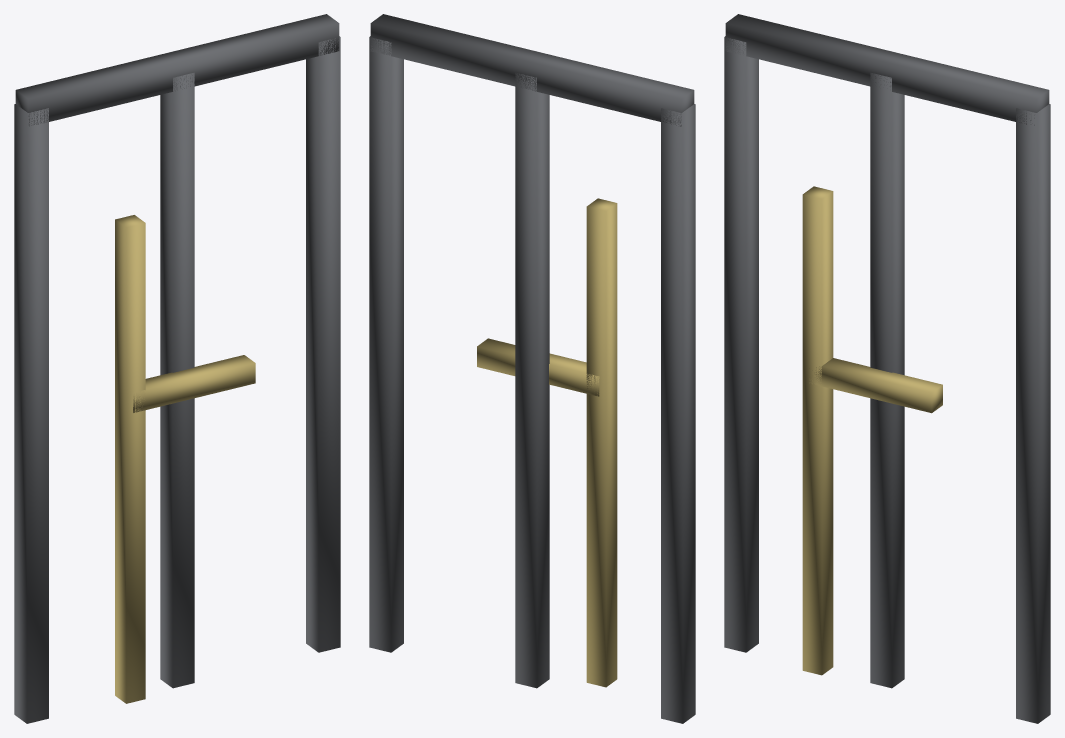
Rendered from industrial_gate_l60_h120.glb.
3 views of the same model, side by side, from view 1: azimuth 30°, elevation 25°; view 2: azimuth 150°, elevation 25°; view 3: azimuth 330°, elevation 25° (orthographic).
Parts seen in each view (by area): view 1: world; view 2: world; view 3: world.
Boxes of the visible parts, left/top/right/bottom form: world: left=14, top=14, right=340, bottom=723; world: left=369, top=14, right=695, bottom=723; world: left=724, top=14, right=1050, bottom=723.
Bounding box in the file's own units: 0.645 × 1.23 × 0.0825.
